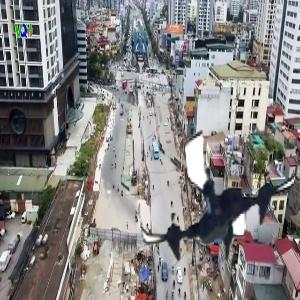drone: (138, 123, 299, 284)
